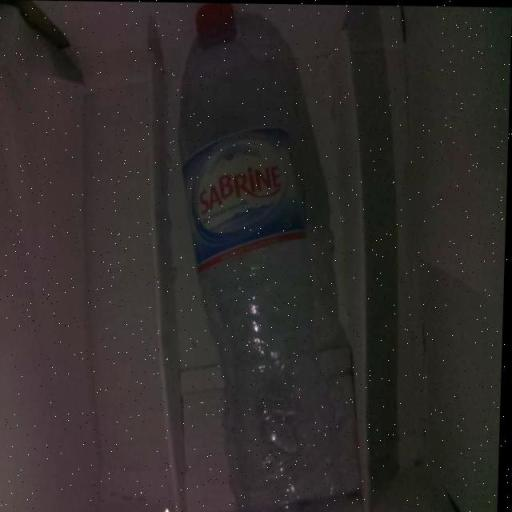plastic: (165, 2, 377, 512)
